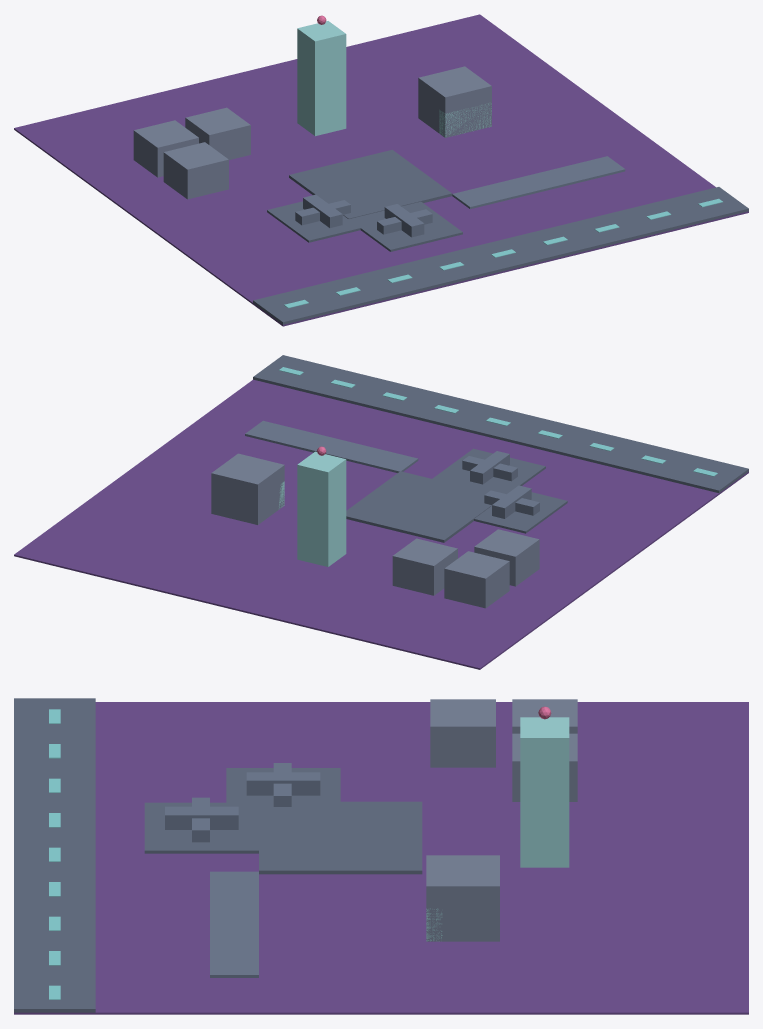
File: stage_09.glb
The picture shows the model from 3 angles, top to bottom: view 1: azimuth 30°, elevation 25°; view 2: azimuth 150°, elevation 25°; view 3: azimuth 270°, elevation 25°; orthographic projection. The views are drawn at different scales.
Visible parts, largest first — view 1: geometry_0; view 2: geometry_0; view 3: geometry_0.
Part boxes in pixels (x1,y1,x2,y2): geometry_0: [14, 14, 748, 326]; geometry_0: [14, 355, 748, 669]; geometry_0: [14, 698, 748, 1014].
Size of the model in its own units: 9 by 2.06 by 9.
